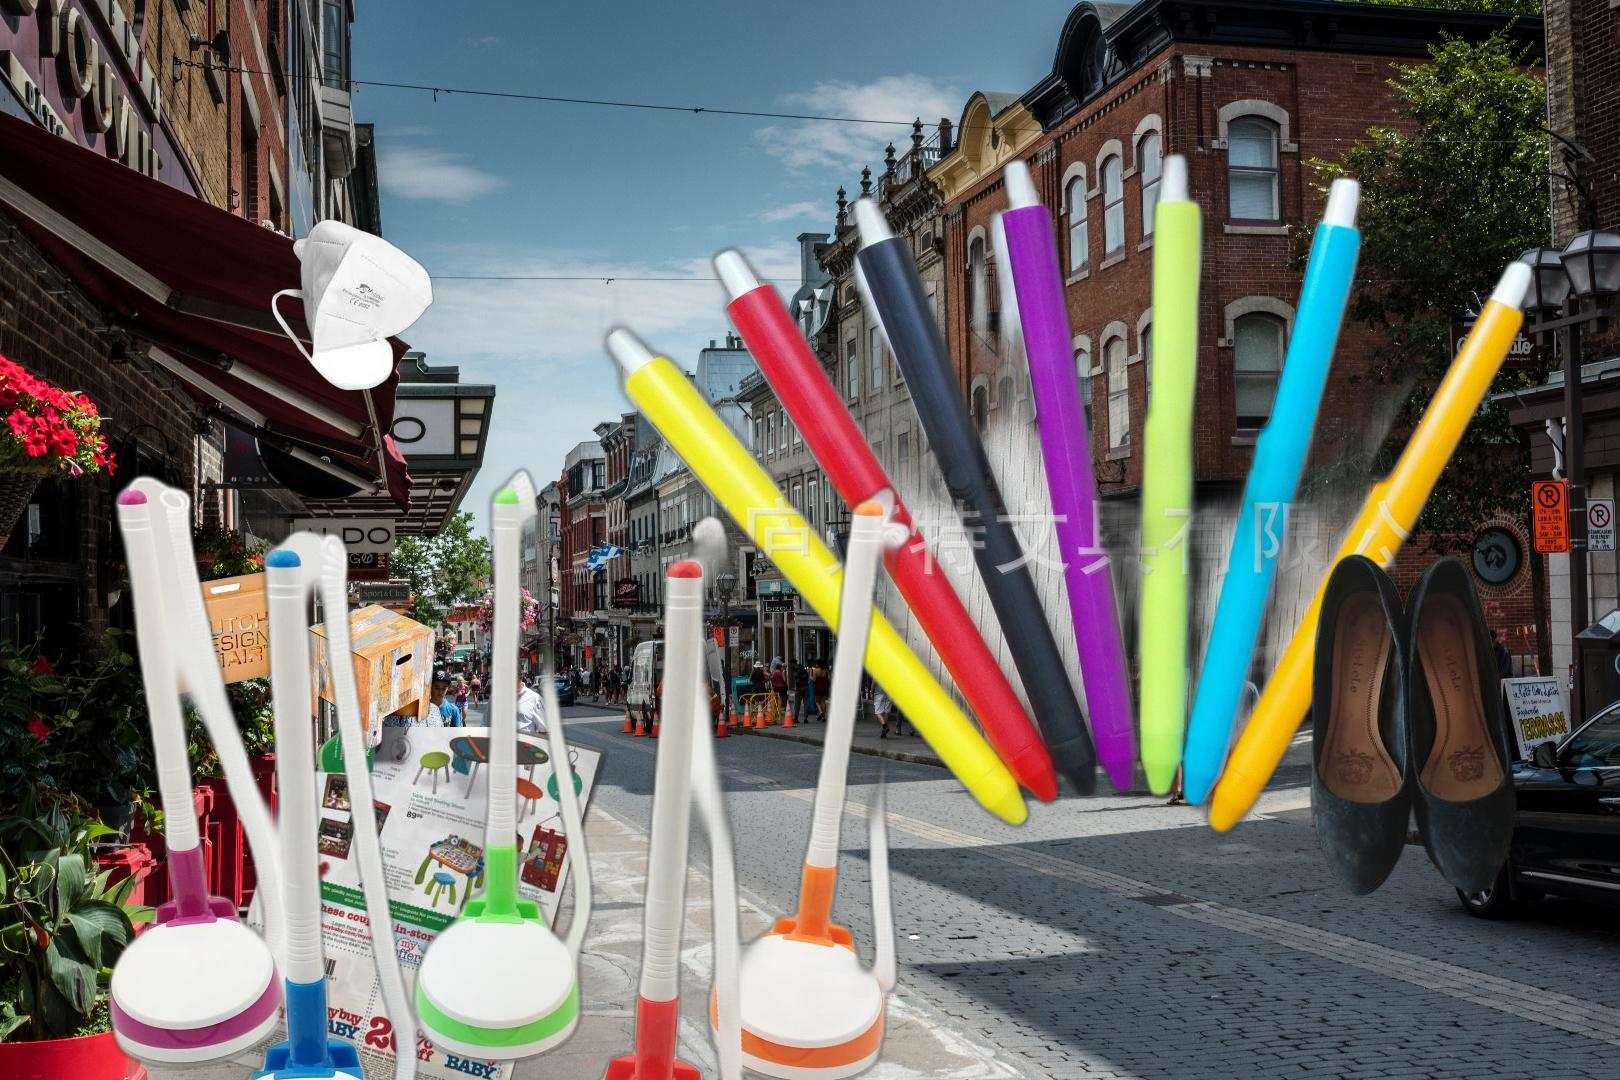paper: (206, 727, 611, 1080)
penholder: (593, 143, 1540, 841), (100, 460, 921, 1080)
plastic-bag: (297, 965, 529, 1080)
shoes: (1305, 551, 1522, 900)
trash: (269, 216, 435, 393)
trashbox-cardboard: (149, 564, 438, 752)
